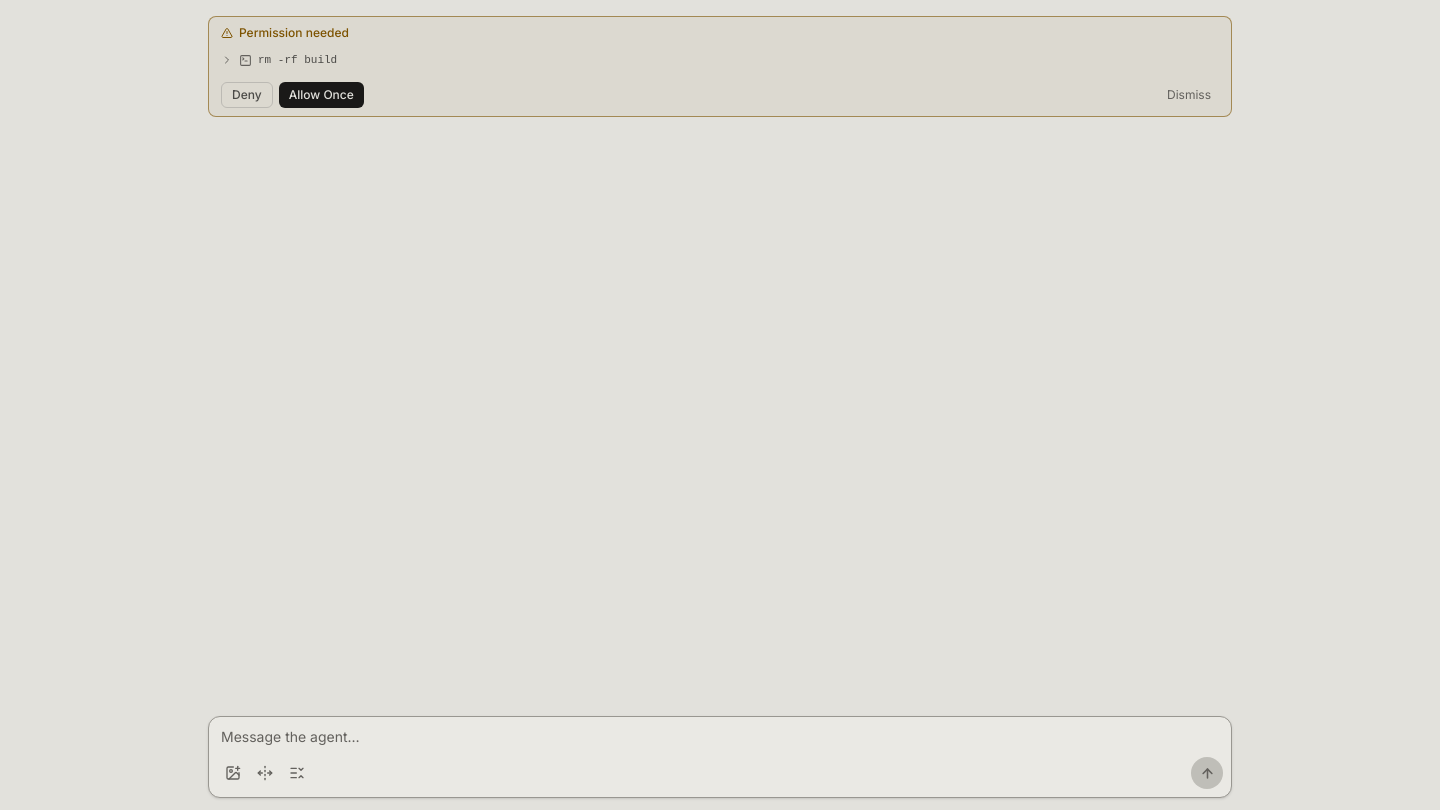
Test case: WorkspaceChat permission asks › sends the chosen option and stops offering the rest
Click the button "Allow Once": (321, 95) [279,82,364,108]
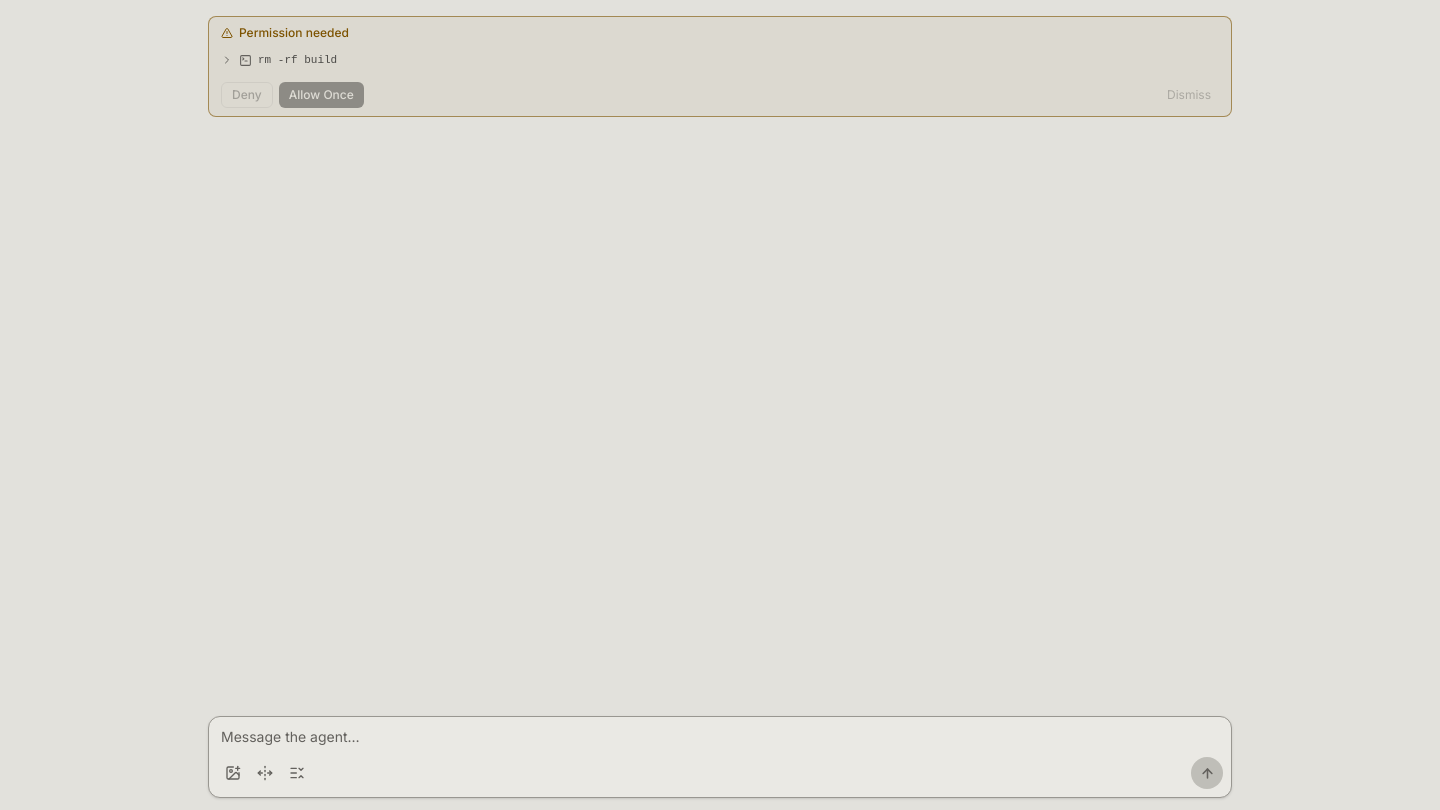
Check: the button "Allow Once" is disabled, box [279,82,364,108]
Check: the button "Deny" is disabled, box [221,82,273,108]
